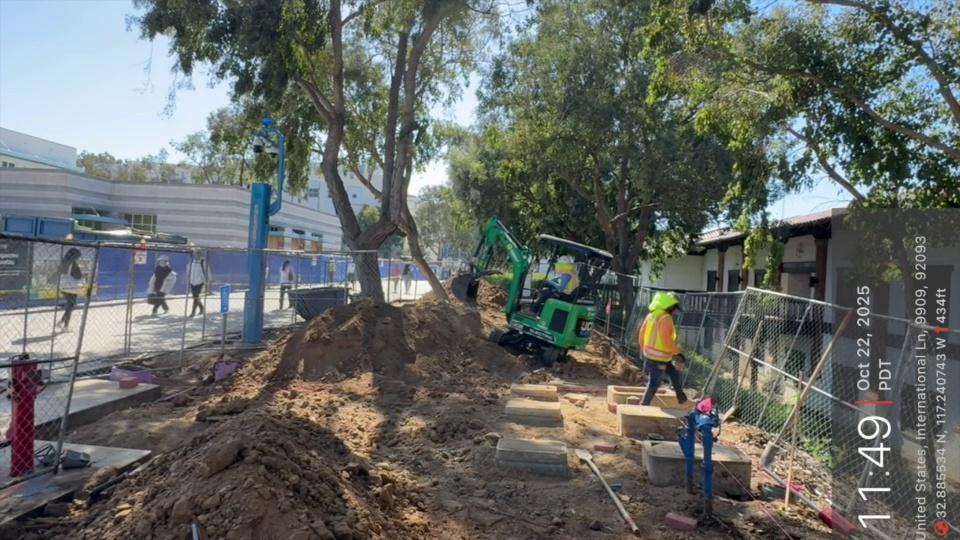Exacavator: (450, 214, 617, 367)
